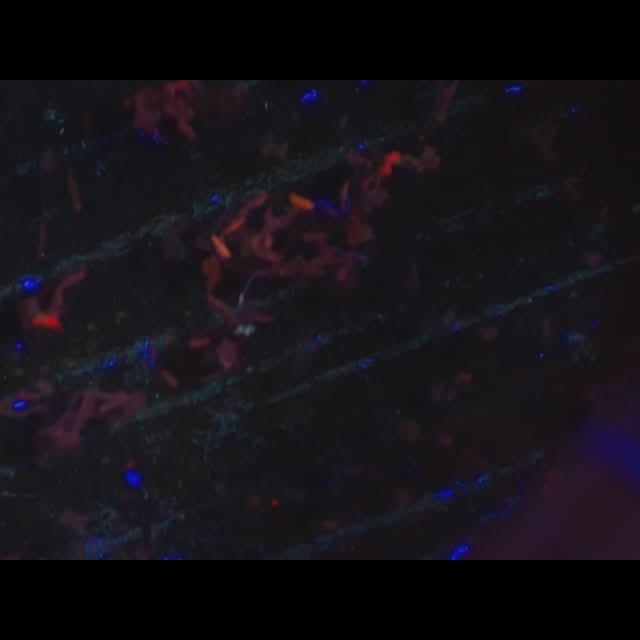Fragment: (203, 188, 381, 336)
